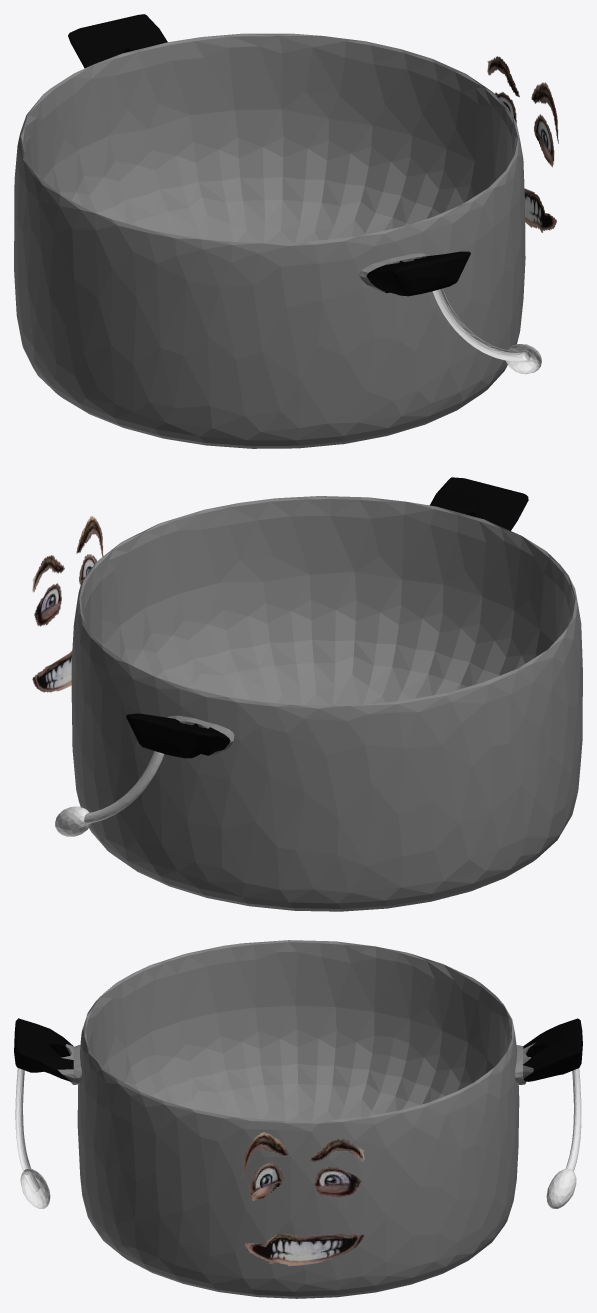
File: Potlander.glb
The picture shows the model from 3 angles, top to bottom: view 1: azimuth 30°, elevation 25°; view 2: azimuth 150°, elevation 25°; view 3: azimuth 270°, elevation 25°; orthographic projection. The views are drawn at different scales.
Parts seen in each view (by area): view 1: Pot; view 2: Pot; view 3: Pot.
Part boxes in pixels (x1=…): Pot: x1=14, y1=14, x2=558, y2=448; Pot: x1=32, y1=477, x2=582, y2=911; Pot: x1=14, y1=940, x2=582, y2=1298.
Size of what is drawn, in the model's own units: 2.14 by 1.12 by 2.55.
Materials: 6 (1 with a texture image).
